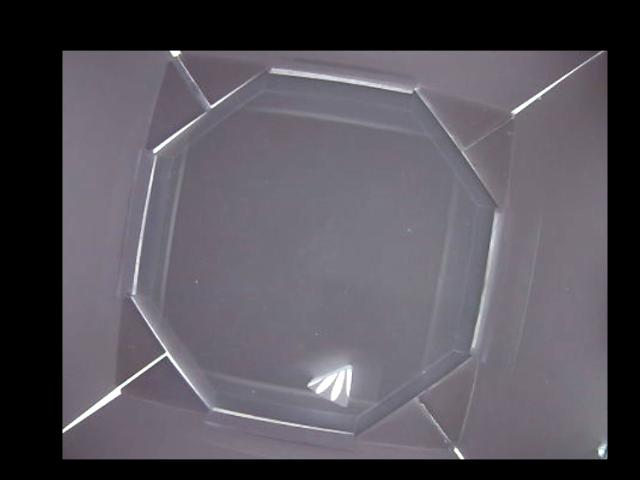China: (307, 364, 352, 406)
